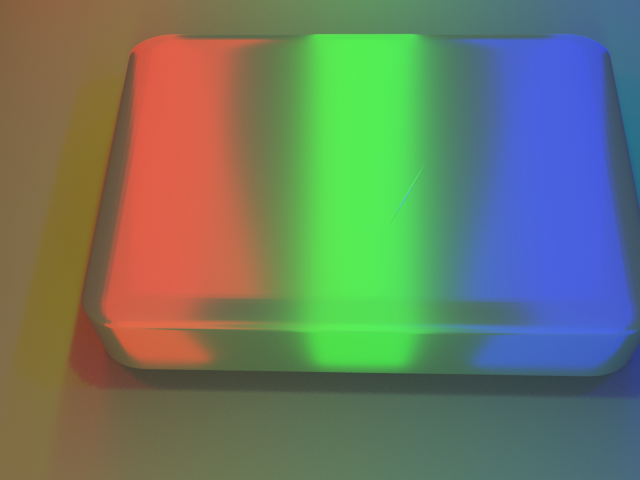scratch: (228, 93, 603, 309)
